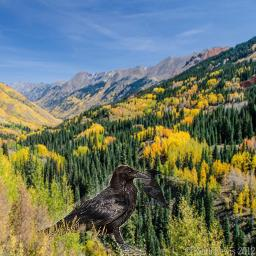Crow: (31, 165, 151, 255), (141, 169, 170, 210)
